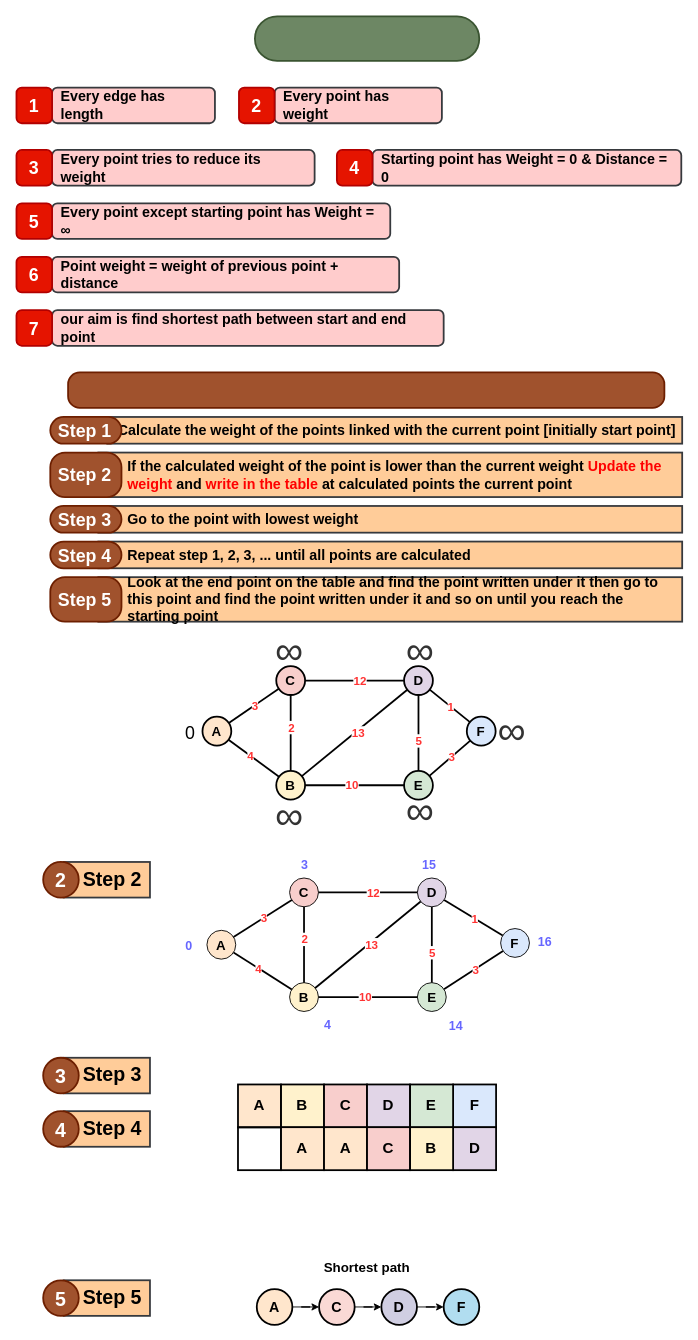
Some shapes in this 698 by 1340 pixel diagram are drawn without their labels. The shapes that lost their labels are listed below. From the top down, each one's centre as x and y in pixels, then its label:
At point 367,38: "Dijkstra Algorithm".
At point 366,389: "Steps".
